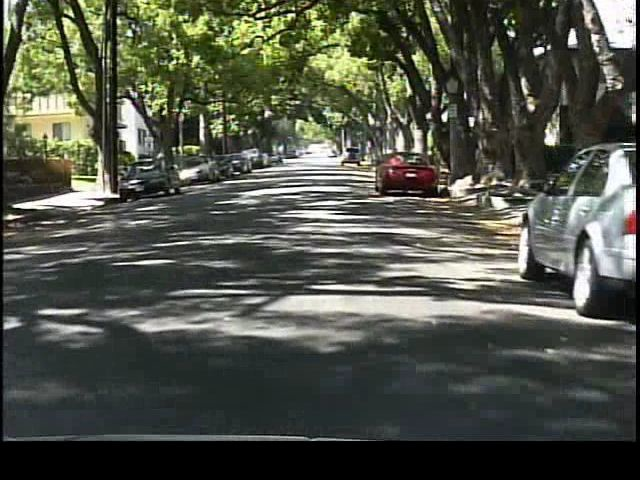person: (154, 148, 174, 186)
